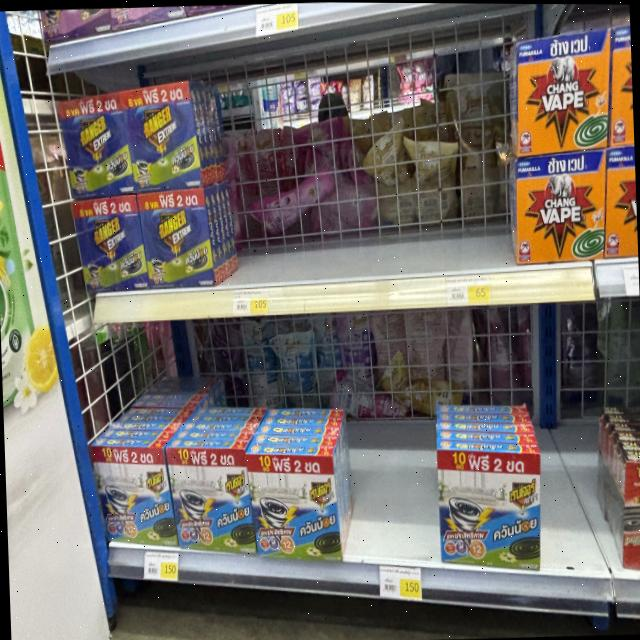empty_shelf: (204, 48, 512, 288), (82, 318, 336, 449), (347, 313, 441, 561), (541, 301, 620, 569), (435, 306, 538, 446)
